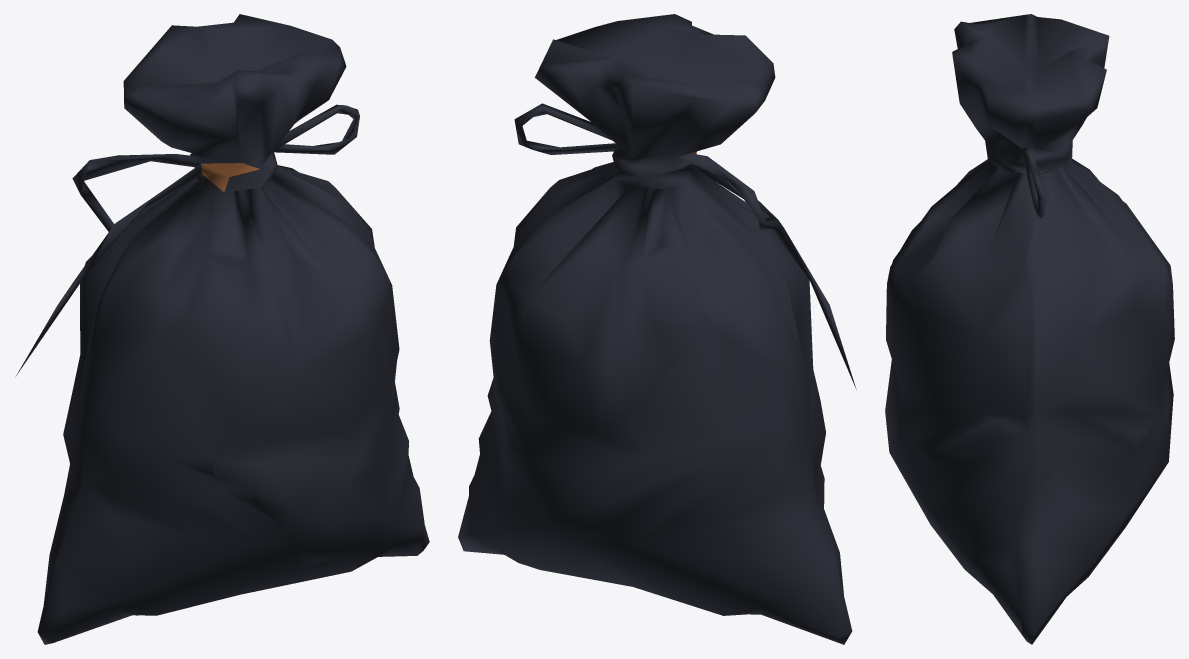
File: SM_prop_trash_bag.fbx
The picture shows the model from 3 angles, left to right: view 1: azimuth 30°, elevation 25°; view 2: azimuth 150°, elevation 25°; view 3: azimuth 270°, elevation 25°; orthographic projection. The views are drawn at different scales.
Visible parts, largest first — view 1: SM_prop_trash_bag; view 2: SM_prop_trash_bag; view 3: SM_prop_trash_bag.
Boxes of the visible parts, bbox=[...] form: SM_prop_trash_bag: bbox=[15, 14, 429, 644]; SM_prop_trash_bag: bbox=[458, 14, 856, 644]; SM_prop_trash_bag: bbox=[885, 14, 1174, 644].
Size of the model in its own units: 38.54 by 50 by 25.45.
1 material, 1 textured.
